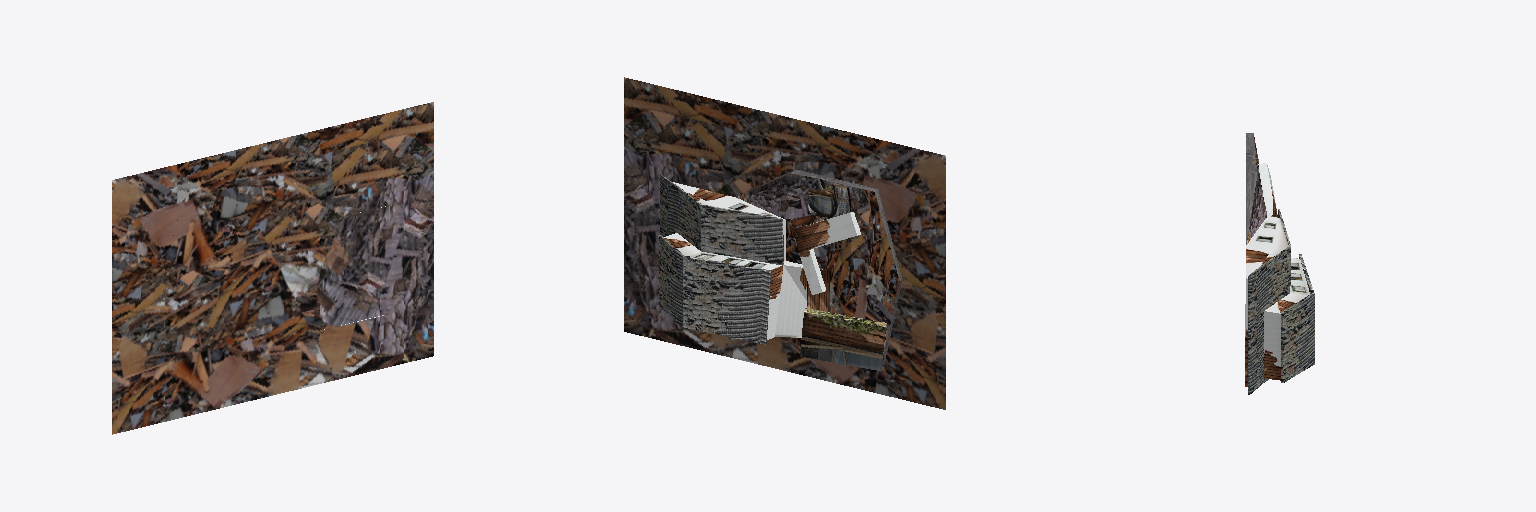
3 renders of one model, left to right at view 1: azimuth 30°, elevation 25°; view 2: azimuth 150°, elevation 25°; view 3: azimuth 270°, elevation 25°, orthographic.
Visible parts, largest first — view 1: Plane; view 2: Plane; view 3: Plane.
Boxes of the visible parts, <box> form: Plane: <box>112,102,433,434</box>; Plane: <box>624,77,945,409</box>; Plane: <box>1245,133,1314,394</box>.
Bounding box in the file's own units: 13.17 × 9.94 × 2.47.
Materials: 1 (1 with a texture image).